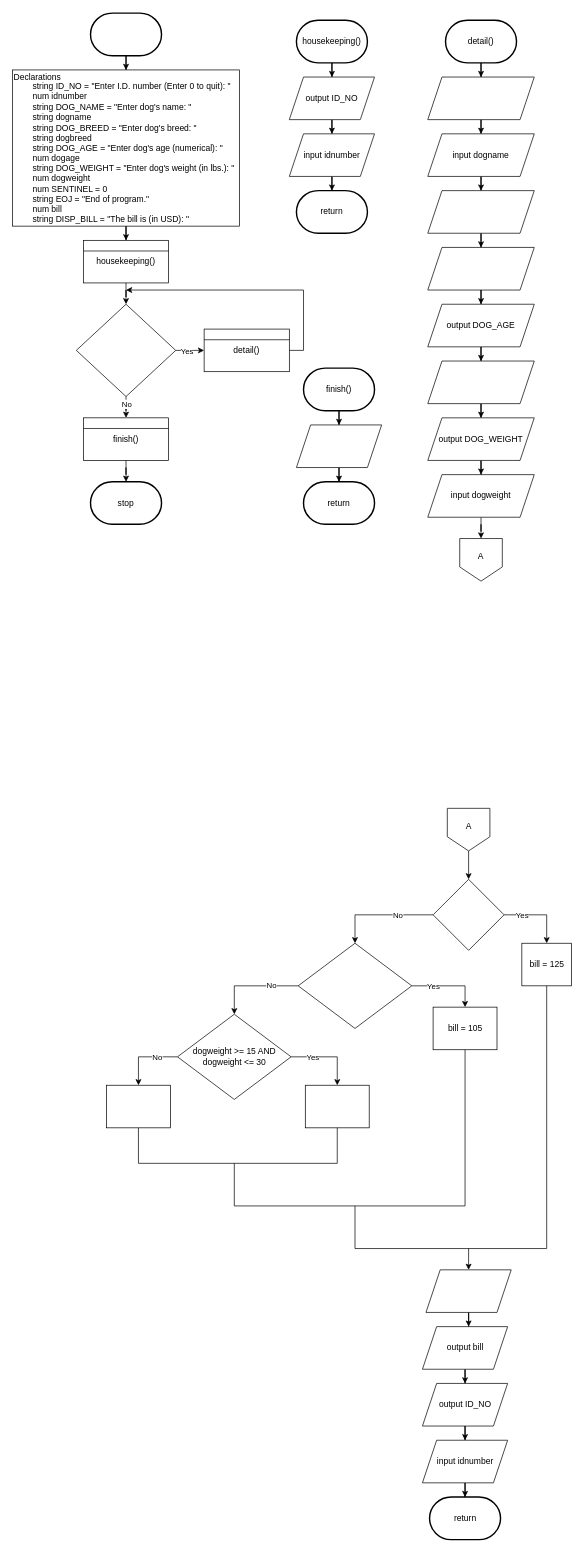
Some shapes in this 584 by 1552 pixel diagram are drawn without their labels. Here are the shapes that lost their labels. From the top down, the centre of each, then its label:
At point (125, 34): "start".
At point (480, 98): "output DOG_NAME".
At point (480, 211): "output DOG_BREED".
At point (480, 268): "input dogbreed".
At point (126, 350): "idnumber <> SENTINEL".
At point (480, 382): "input dogage".
At point (339, 446): "output EOJ".
At point (468, 914): "dogweight > 80".
At point (354, 985): "dogweight >= 31 AND dogweight <= 80".
At point (138, 1106): "bill = 55".
At point (337, 1106): "bill = 75".
At point (468, 1290): "output DISP_BILL".
